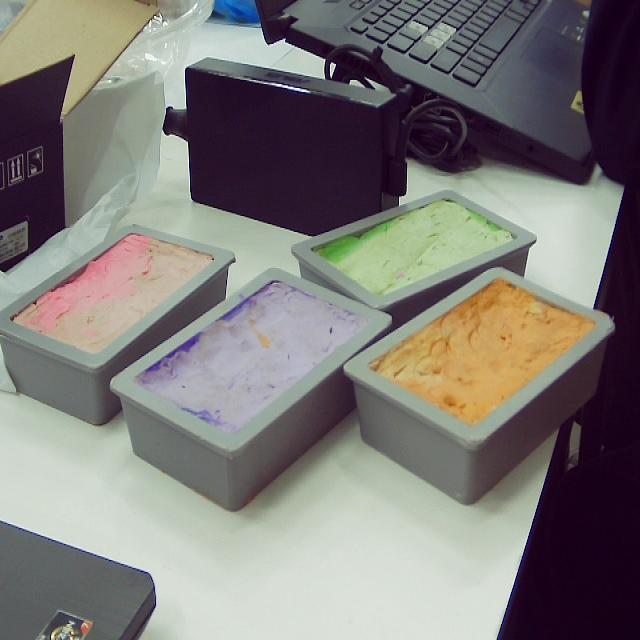block: (109, 265, 387, 510), (340, 268, 610, 509), (3, 222, 238, 426), (292, 188, 536, 334)
